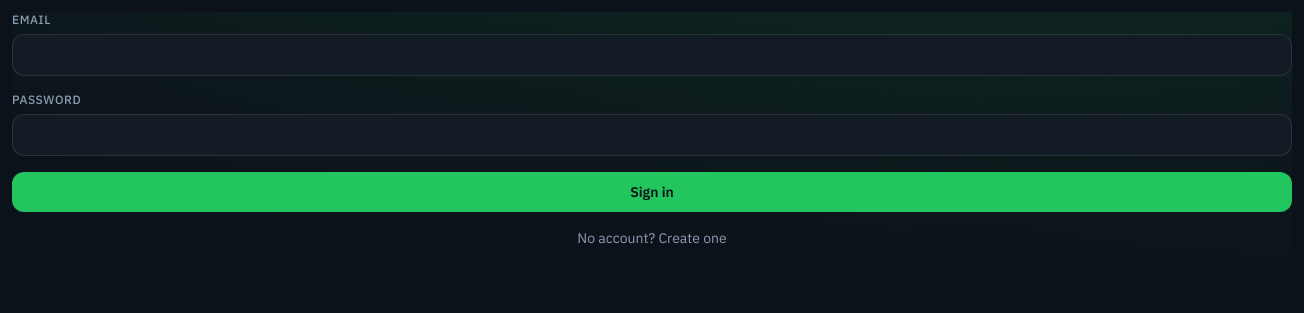
Scenario: LoginForm › shows API error message
The width and height of the screenshot is (1304, 313).
Type "a@test.com" into the field labelled "Email" at (652, 55), box top-left (12, 34), bottom-right (1292, 76)
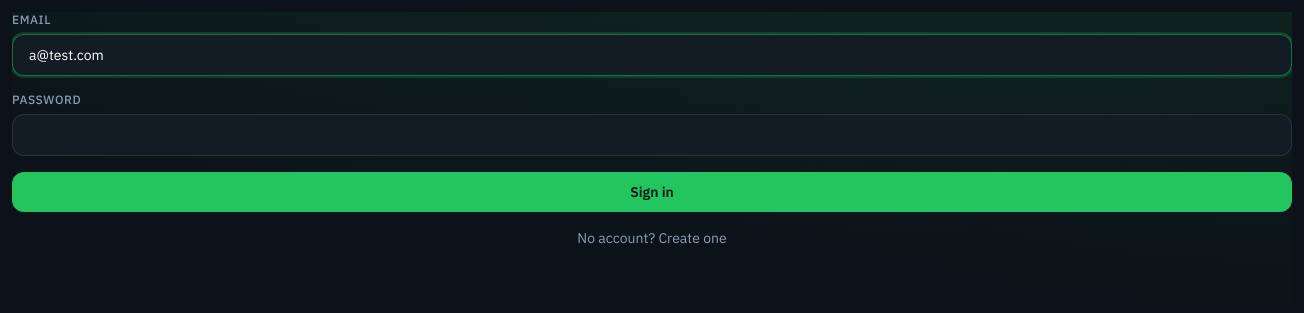
Type "wrong" into the password field labelled "Password" at (652, 135), box top-left (12, 114), bottom-right (1292, 156)
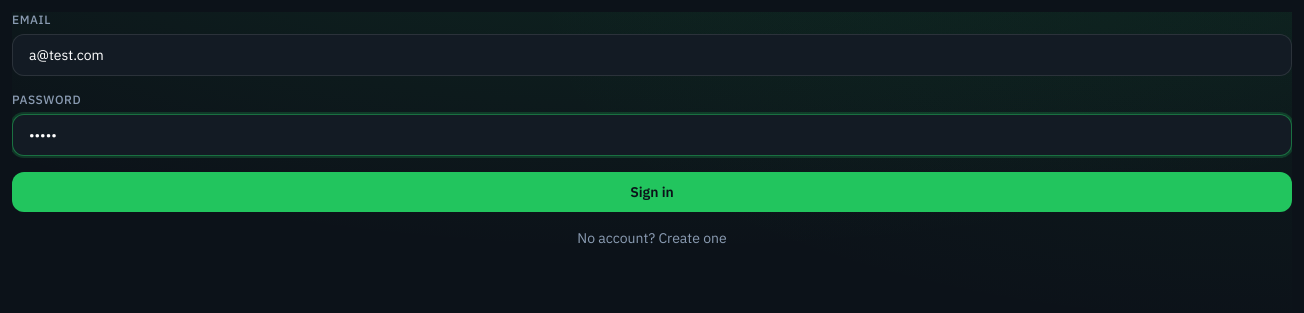
Click the button "Sign in" at (652, 192), box top-left (12, 172), bottom-right (1292, 212)
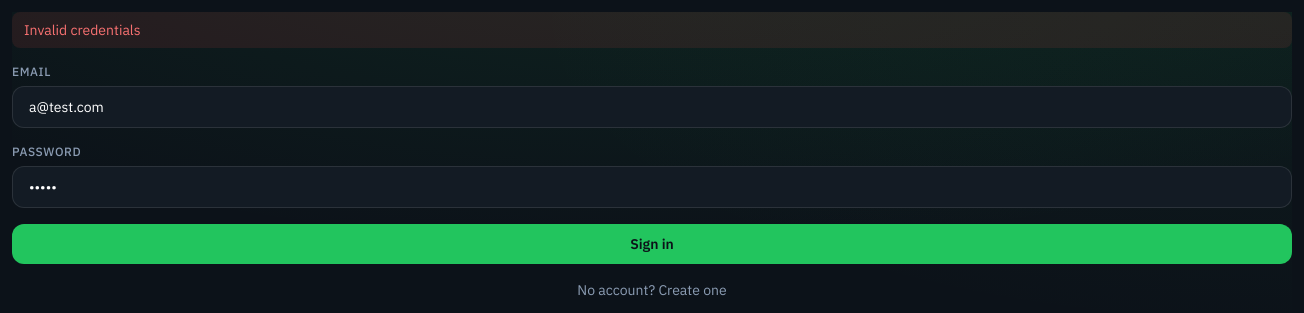
Check: the text "Invalid credentials" is shown, box top-left (12, 12), bottom-right (1292, 48)
